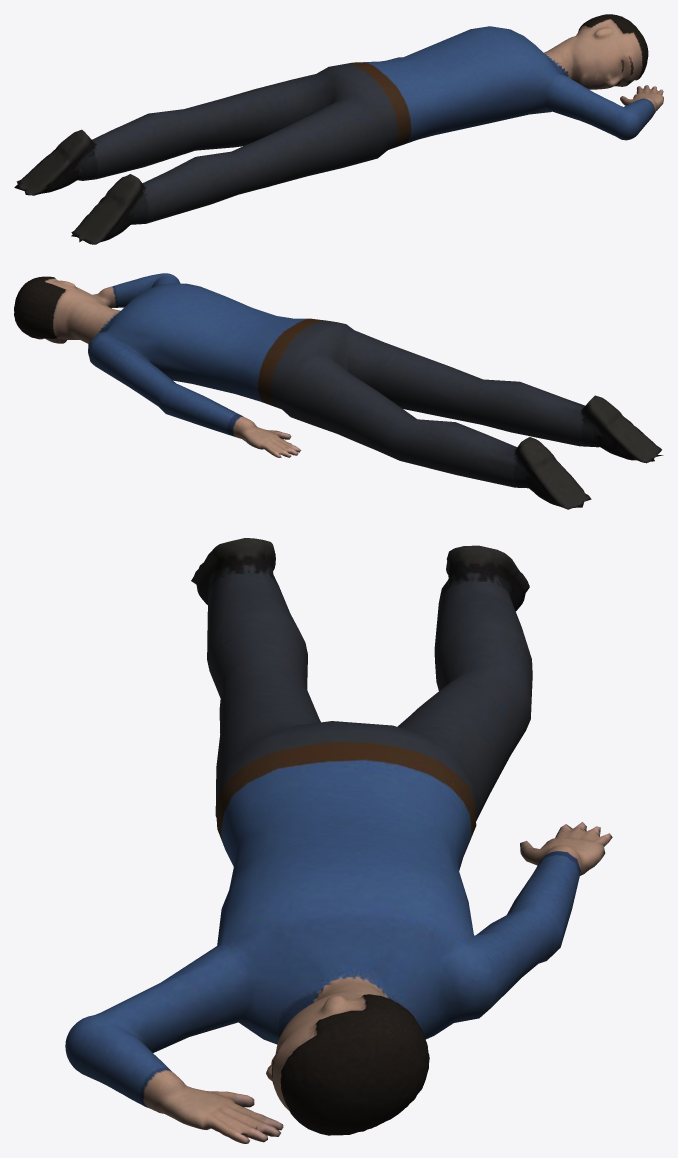
Rendered from victim_male_face_down.glb.
3 views of the same model, one above another, from view 1: azimuth 30°, elevation 25°; view 2: azimuth 150°, elevation 25°; view 3: azimuth 270°, elevation 25° (orthographic). The views are drawn at different scales.
Parts seen in each view (by area): view 1: victim_male_face_down; view 2: victim_male_face_down; view 3: victim_male_face_down.
Boxes of the visible parts, left/top/right/bottom form: victim_male_face_down: left=14, top=14, right=663, bottom=244; victim_male_face_down: left=14, top=273, right=663, bottom=509; victim_male_face_down: left=65, top=538, right=612, bottom=1143.
Bounding box in the file's own units: 1.85 × 0.2115 × 0.7355.
1 material, 1 textured.
